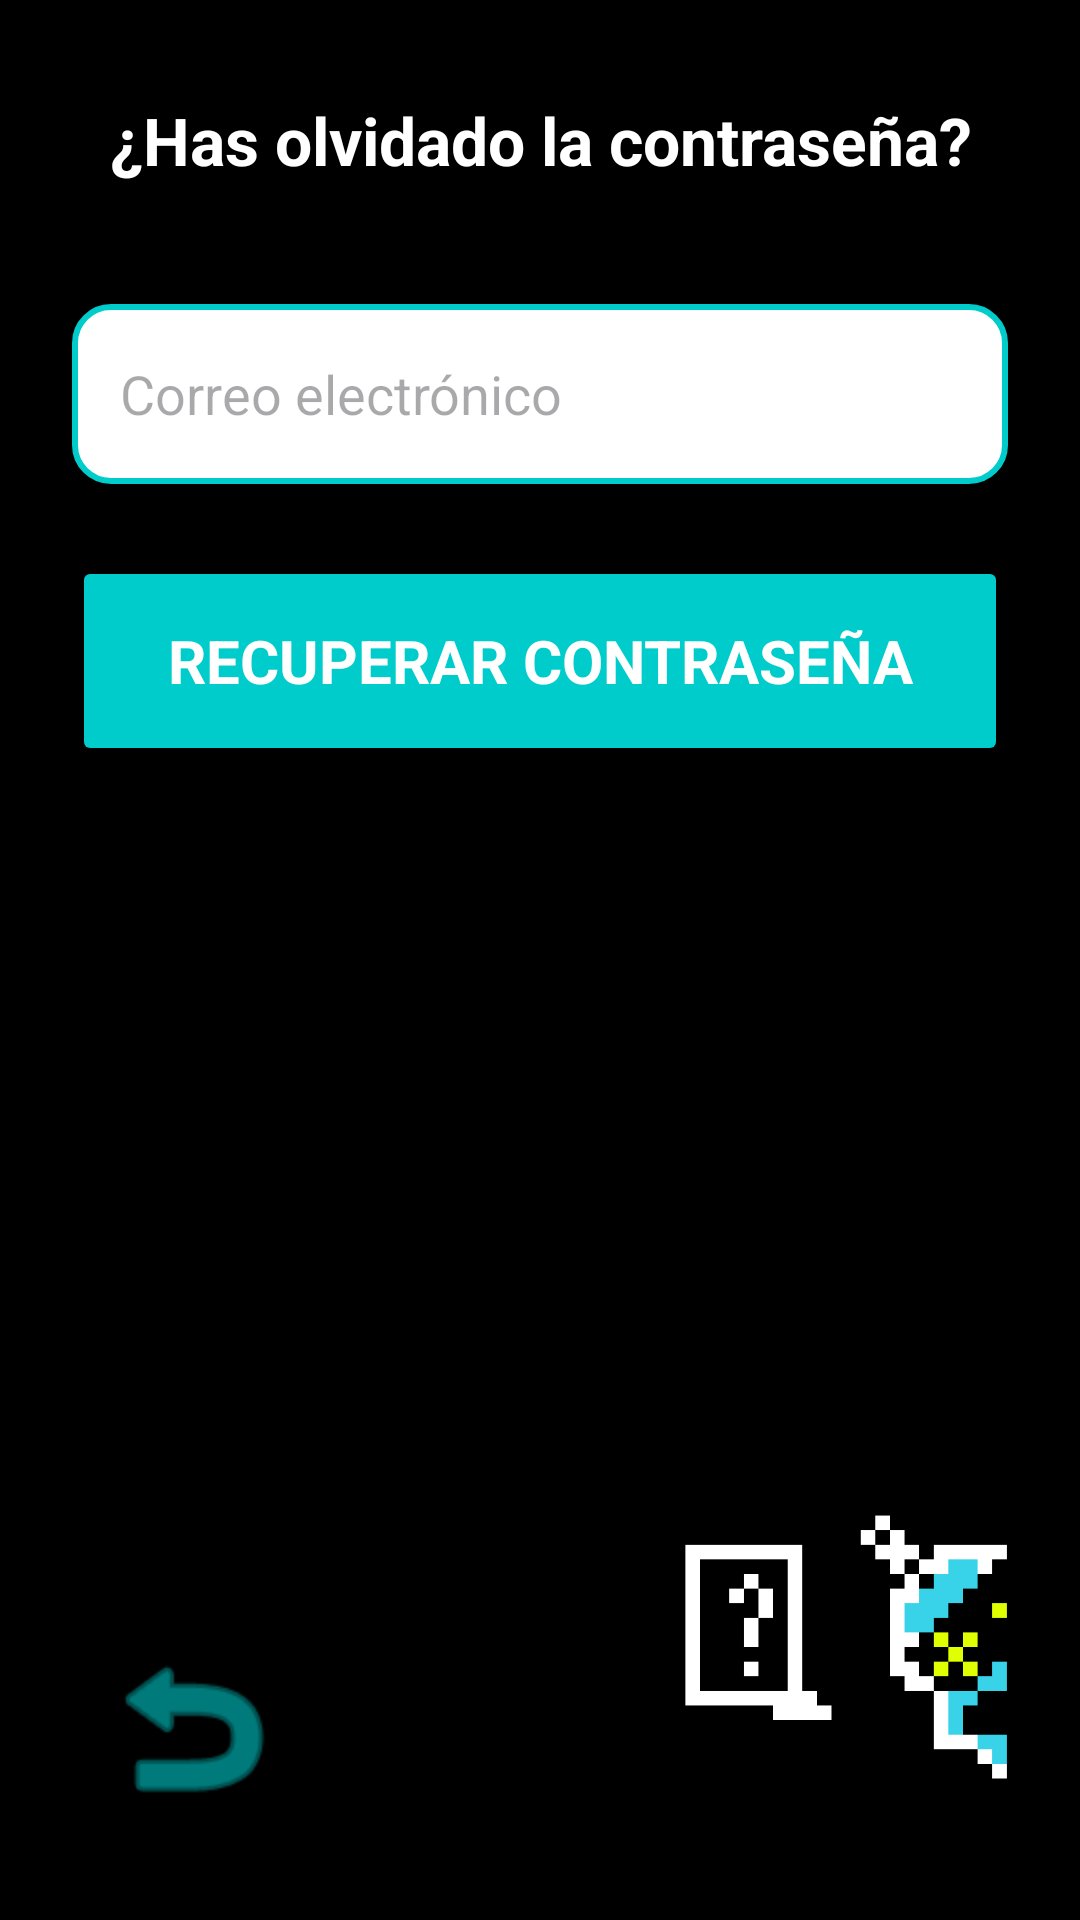

Icon click points for this 1080px×1920px phone screenshot, format point (x, y):
Atrás: point (194, 1729)
